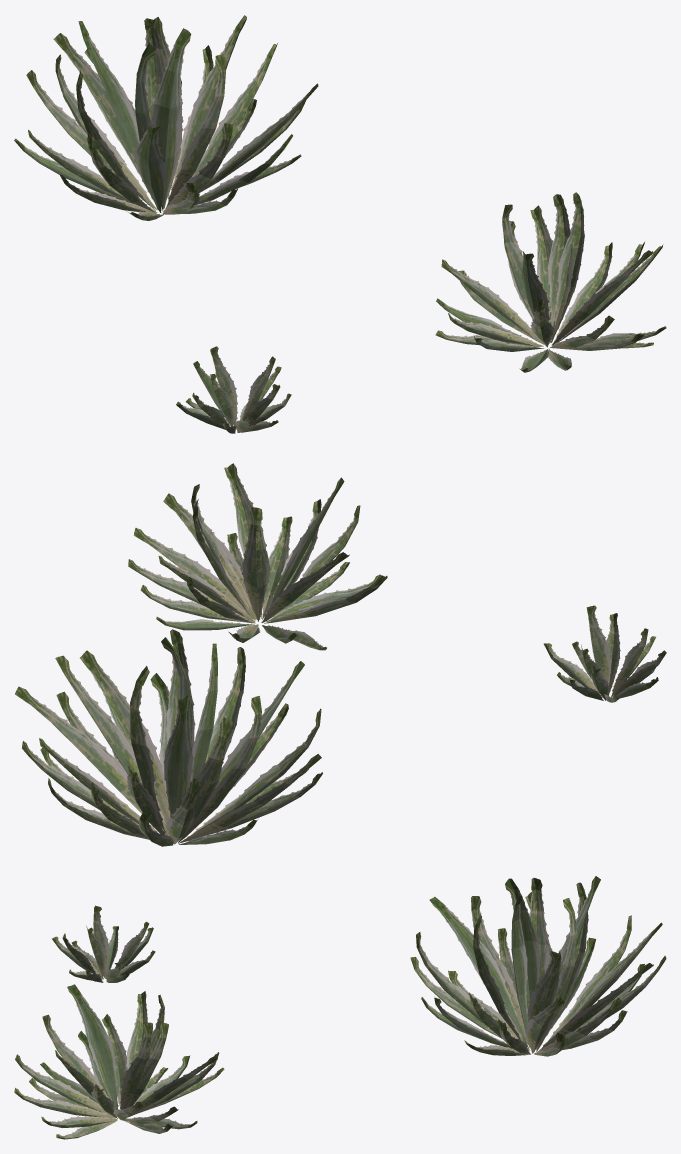
File: agave.glb
The picture shows the model from 3 angles, top to bottom: view 1: azimuth 30°, elevation 25°; view 2: azimuth 150°, elevation 25°; view 3: azimuth 270°, elevation 25°; orthographic projection. The views are drawn at different scales.
Parts seen in each view (by area): view 1: geometry_0; view 2: geometry_0; view 3: geometry_0.
Part boxes in pixels (box(x1,y1,x2,y2)): geometry_0: box(14, 15, 666, 433); geometry_0: box(15, 463, 666, 846); geometry_0: box(14, 876, 666, 1139).
Bounding box in the file's own units: 2435 × 900 × 3234.
Materials: 1 (1 with a texture image).
